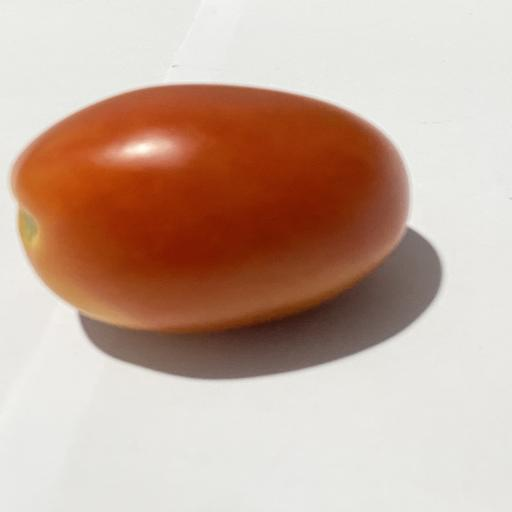ripe: (12, 84, 408, 332)
